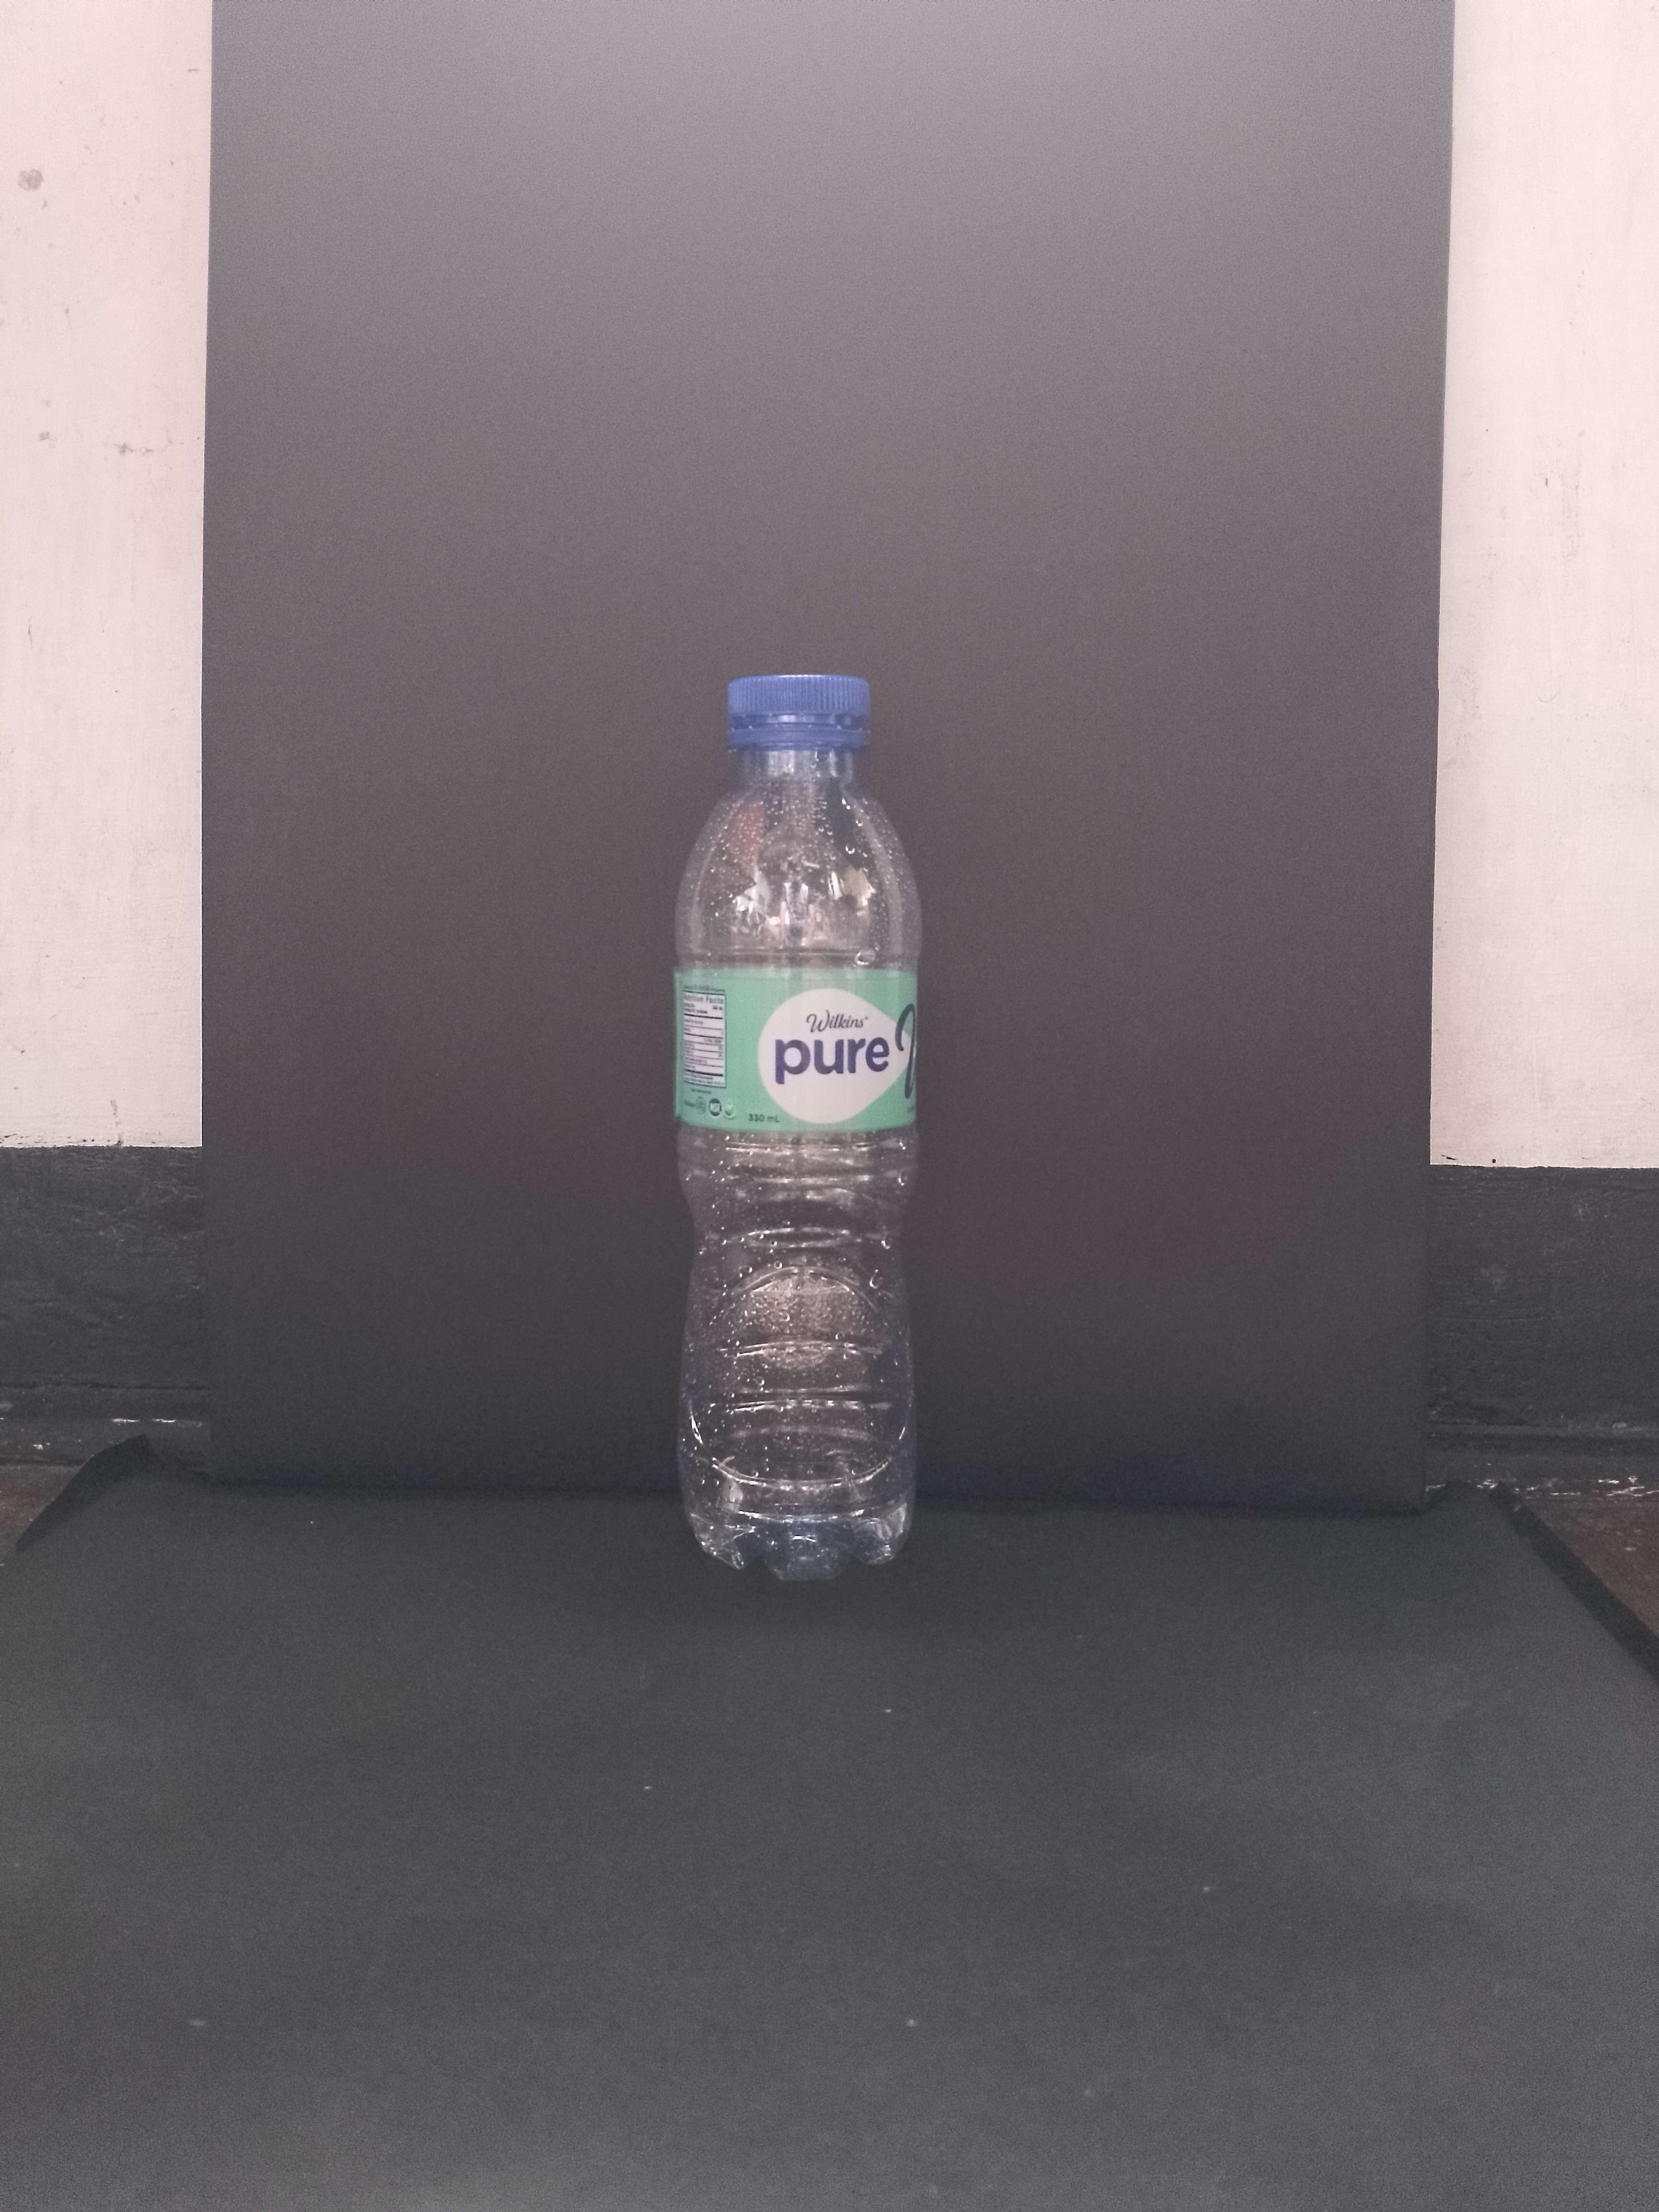plastic bottle: (659, 658, 936, 1595)
